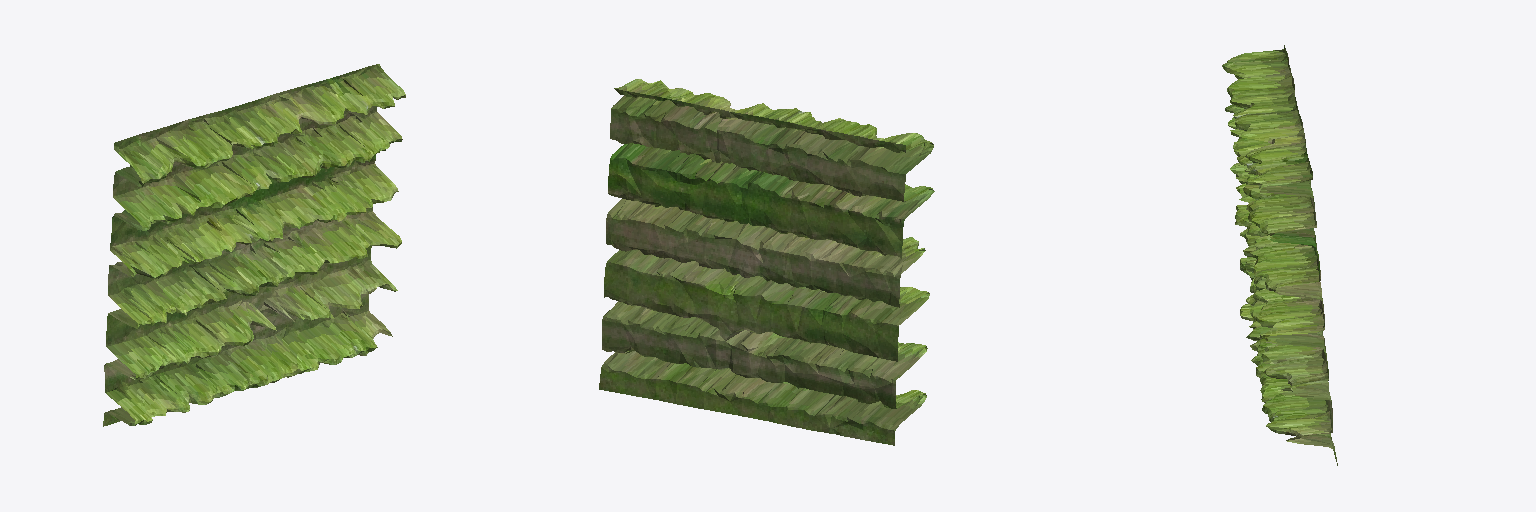
3 renders of one model, left to right at view 1: azimuth 30°, elevation 25°; view 2: azimuth 150°, elevation 25°; view 3: azimuth 270°, elevation 25°, orthographic.
Visible parts, largest first — view 1: grp1; view 2: grp1; view 3: grp1.
Boxes of the visible parts, x1,y1,x2,y2 form: grp1: [103, 64, 405, 426]; grp1: [599, 79, 934, 445]; grp1: [1222, 45, 1337, 465].
Bounding box in the file's own units: 10 × 10 × 3.62.
Materials: 1 (1 with a texture image).